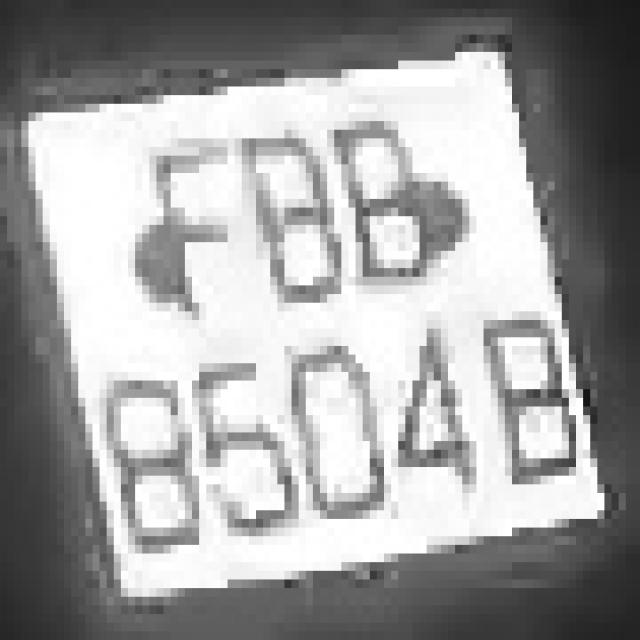0: (270, 312, 391, 554)
4: (391, 320, 484, 528)
5: (192, 328, 306, 554)
8: (93, 355, 199, 588)
B: (327, 78, 441, 328), (462, 276, 583, 502), (228, 112, 348, 338)
F: (142, 112, 242, 328)
